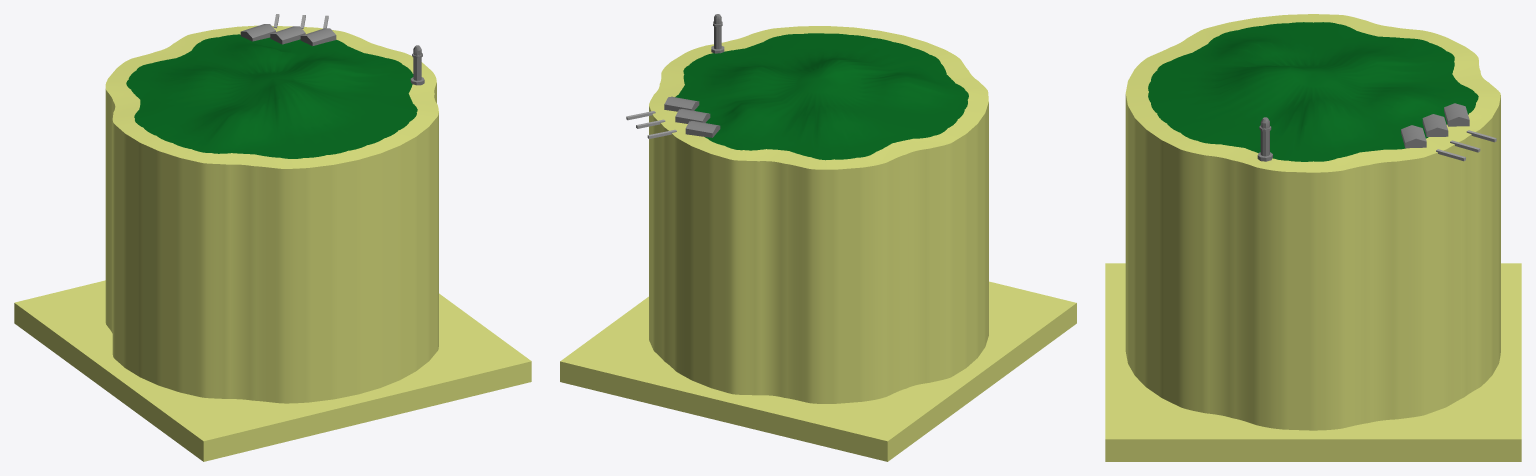
Rendered from Quest_Medium_Island_01.fbx.
The picture shows the model from 3 angles, left to right: view 1: azimuth 30°, elevation 25°; view 2: azimuth 150°, elevation 25°; view 3: azimuth 270°, elevation 25°; orthographic projection. The views are drawn at different scales.
Parts seen in each view (by area): view 1: Quest_Medium_Island_01, Medium_Quest_01; view 2: Quest_Medium_Island_01, Medium_Quest_01; view 3: Quest_Medium_Island_01, Medium_Quest_01.
Part boxes in pixels (x1,y1,x2,y2): Quest_Medium_Island_01: [14, 25, 531, 461]; Medium_Quest_01: [240, 14, 424, 85]; Quest_Medium_Island_01: [560, 26, 1076, 461]; Medium_Quest_01: [626, 14, 724, 138]; Quest_Medium_Island_01: [1105, 14, 1521, 461]; Medium_Quest_01: [1257, 103, 1496, 161].
Size of the model in its own units: 68.06 by 57.96 by 68.06.
